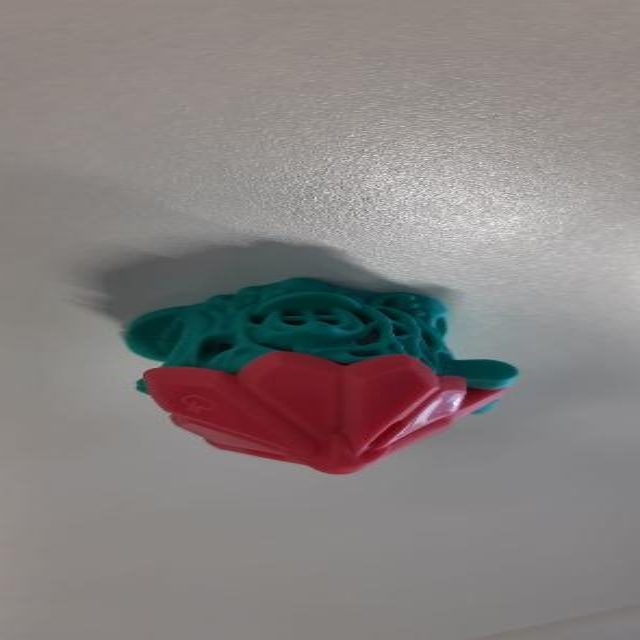House: (107, 274, 535, 490)
